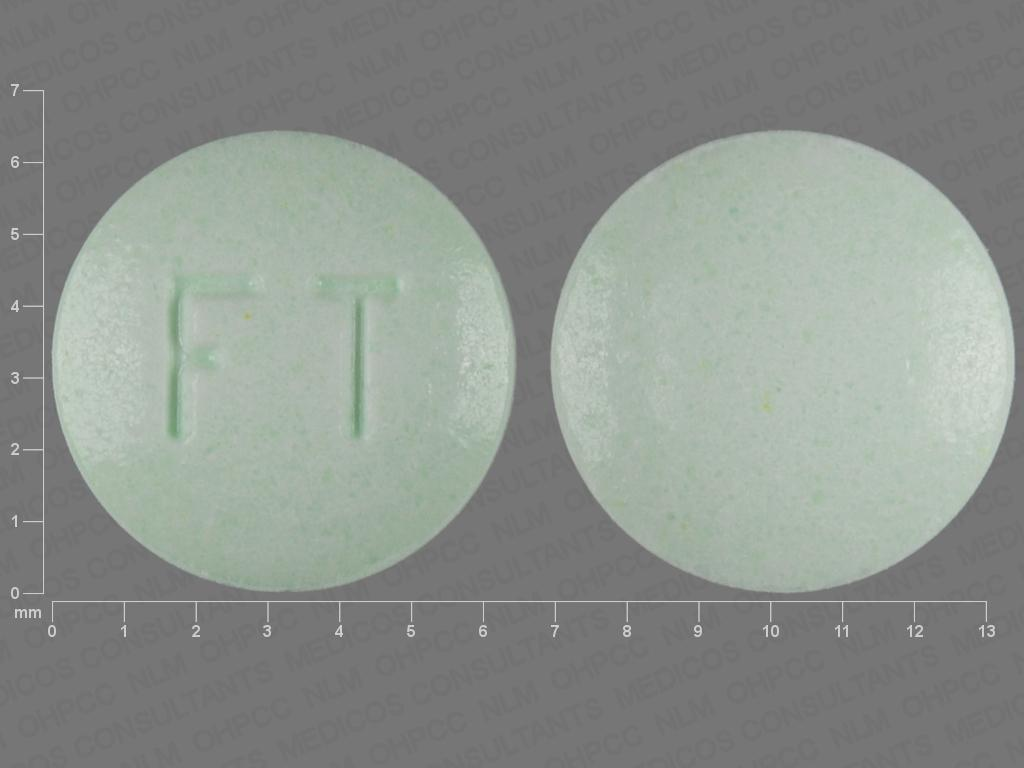Pill: (544, 123, 1024, 600), (49, 124, 524, 598)
